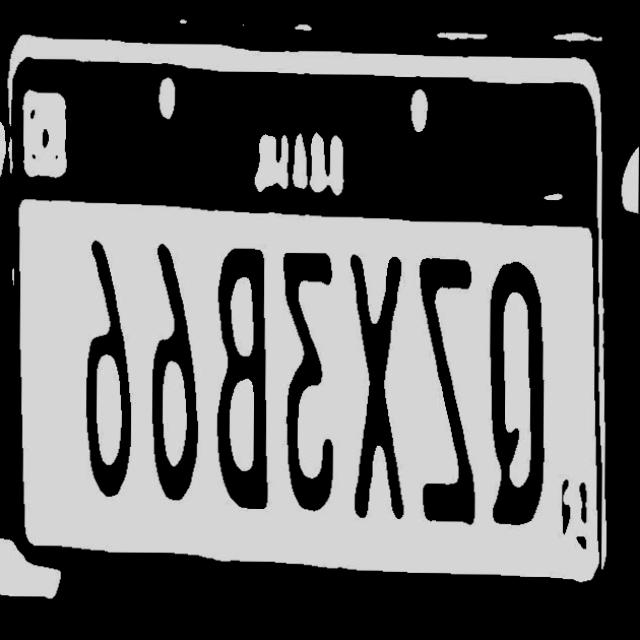3: (282, 247, 344, 525)
6: (67, 232, 142, 514), (145, 241, 206, 524)
b: (205, 244, 278, 519)
q: (486, 255, 558, 528)
x: (343, 250, 411, 527)
z: (411, 253, 482, 532)
